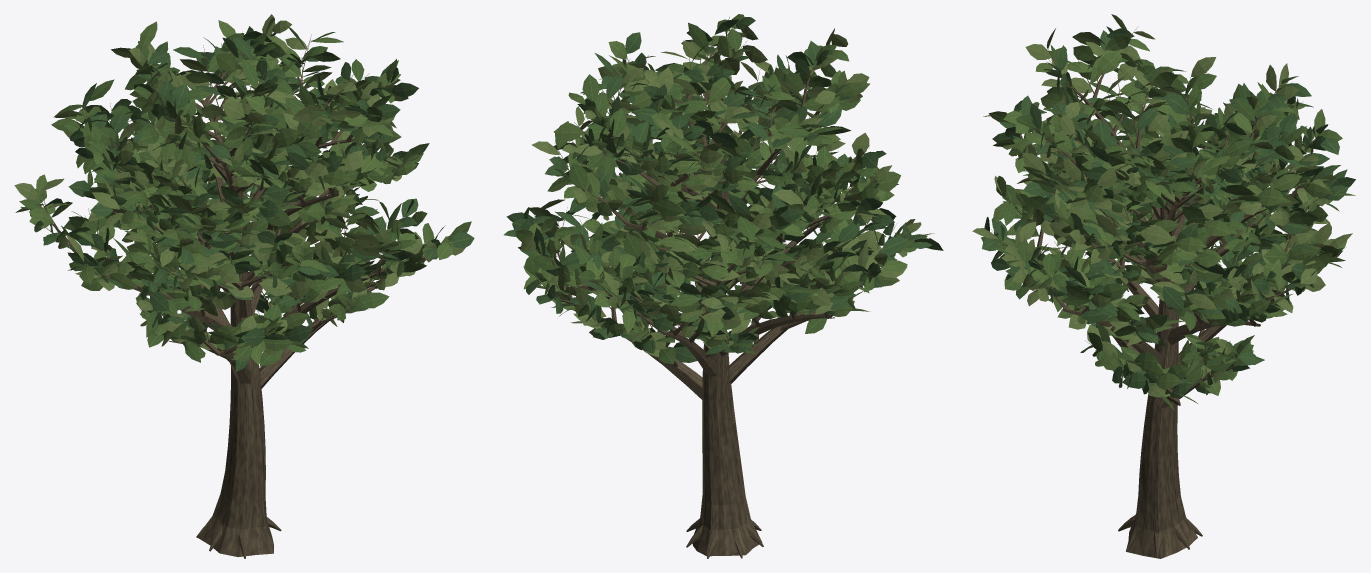
Rendered from realistic_tree_improved_leaves.glb.
3 views of the same model, side by side, from view 1: azimuth 30°, elevation 25°; view 2: azimuth 150°, elevation 25°; view 3: azimuth 270°, elevation 25° (orthographic). The views are drawn at different scales.
Visible parts, largest first — view 1: Broadleaf_Tree; view 2: Broadleaf_Tree; view 3: Broadleaf_Tree.
Boxes of the visible parts, x1=… form: Broadleaf_Tree: x1=14, y1=14, x2=474, y2=558; Broadleaf_Tree: x1=504, y1=14, x2=943, y2=558; Broadleaf_Tree: x1=972, y1=14, x2=1355, y2=558.
Bounding box in the file's own units: 9.16 × 11.18 × 8.04.
Materials: 1 (1 with a texture image).
